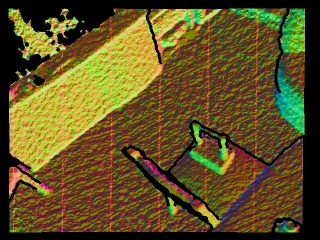station: (188, 121, 236, 174)
